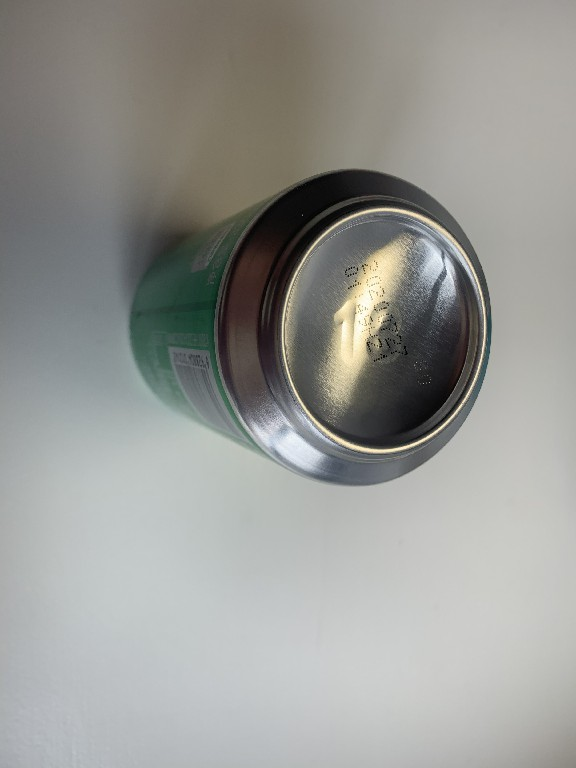can: (124, 167, 494, 487)
